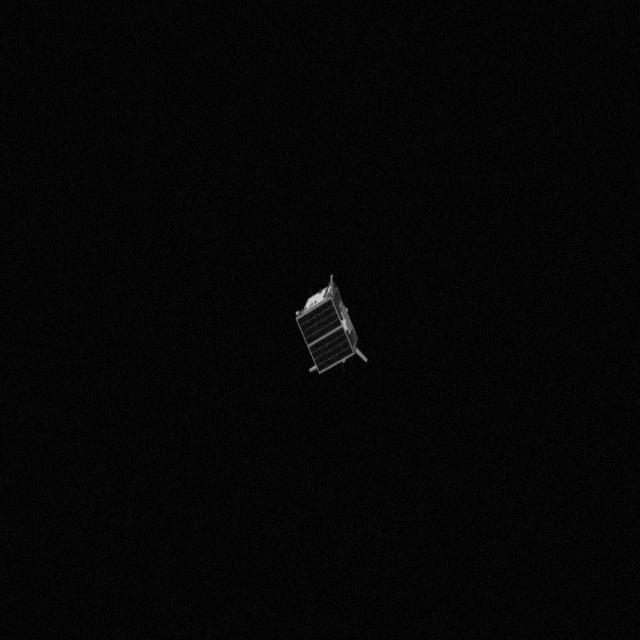medium_debris: (294, 276, 374, 374)
